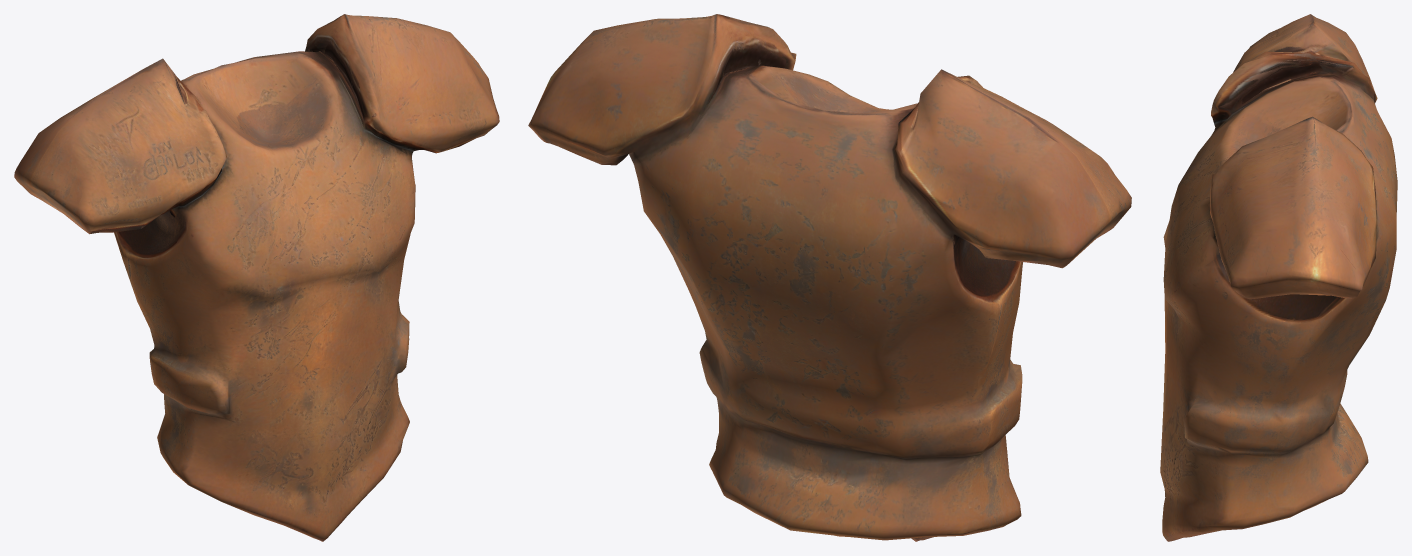
File: body-metal-bronze_backup.glb
3 renders of one model, left to right at view 1: azimuth 30°, elevation 25°; view 2: azimuth 150°, elevation 25°; view 3: azimuth 270°, elevation 25°, orthographic. The views are drawn at different scales.
Size of the model in its own units: 1.98 by 1.9 by 0.8662.
Materials: 1 (1 with a texture image).
